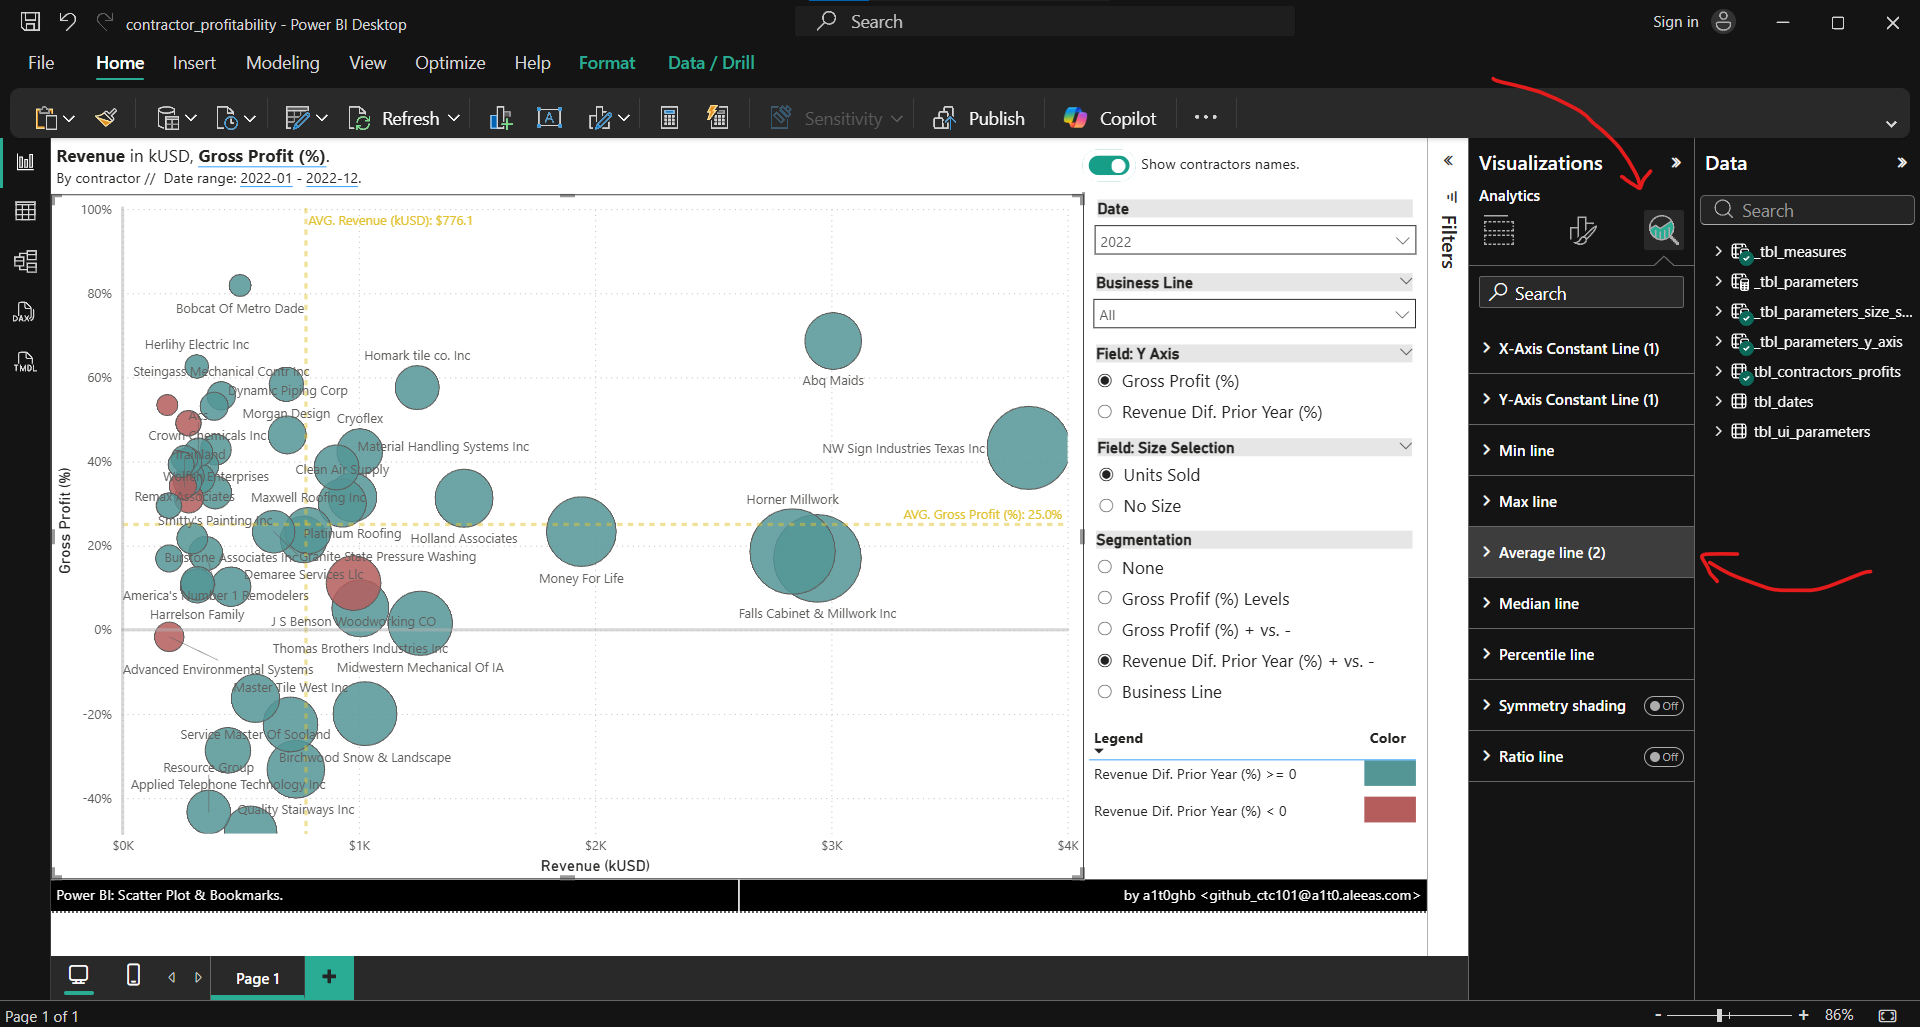

Layout of this report page (visuals, bound fields, positions):
{"tool":"powerbi","page":{"name":"Page 1","canvas":[1280,720],"ordinal":0},"visuals":[{"type":"tableEx","fields":{"Values":["tbl_parameters.segment","tbl_parameters.segment_index"]},"box":[959.3,541.2,320.3,178.7],"z":0},{"type":"scatterChart","fields":{"Y":["_tbl_measures.total_gross_profit_p"],"Size":["_tbl_measures.total_units"],"X":["_tbl_measures.total_revenue"],"Category":["tbl_contractors_profits.client_name"]},"box":[0,52,960.2,668.1],"z":1000},{"type":"slicer","fields":{"Values":["tbl_parameters.y_axis"]},"box":[959.3,187.1,320.3,87.7],"z":2000},{"type":"slicer","fields":{"Values":["tbl_dates.Year","tbl_dates.Month"]},"box":[960.2,52,319.5,68.8],"z":3000},{"type":"textbox","box":[0,0,959.3,52.3],"z":4000},{"type":"slicer","fields":{"Values":["Size Selection.Size Selection"]},"box":[961,274.8,318.7,86],"z":5000},{"type":"slicer","fields":{"Values":["tbl_ui_parameters.segment_category"]},"box":[959.3,360.8,320.3,180.4],"z":6000},{"type":"slicer","fields":{"Values":["tbl_contractors_profits.business_line"]},"box":[959.3,121.4,320.3,65.8],"z":6001}]}

Visuals, with their boxes on the page's 1280x720 design canvas (x1, y1, x2, y2). These are canvas units, not pixel positions in the 1920x1027 screenshot, which may show the page scaled, cropped or inside an application window:
tableEx - tbl_parameters.segment x tbl_parameters.segment_index: crop(959, 541, 1280, 720)
scatterChart - _tbl_measures.total_gross_profit_p x _tbl_measures.total_units: crop(0, 52, 960, 720)
slicer - tbl_parameters.y_axis: crop(959, 187, 1280, 275)
slicer - tbl_dates.Year x tbl_dates.Month: crop(960, 52, 1280, 121)
textbox: crop(0, 0, 959, 52)
slicer - Size Selection.Size Selection: crop(961, 275, 1280, 361)
slicer - tbl_ui_parameters.segment_category: crop(959, 361, 1280, 541)
slicer - tbl_contractors_profits.business_line: crop(959, 121, 1280, 187)
